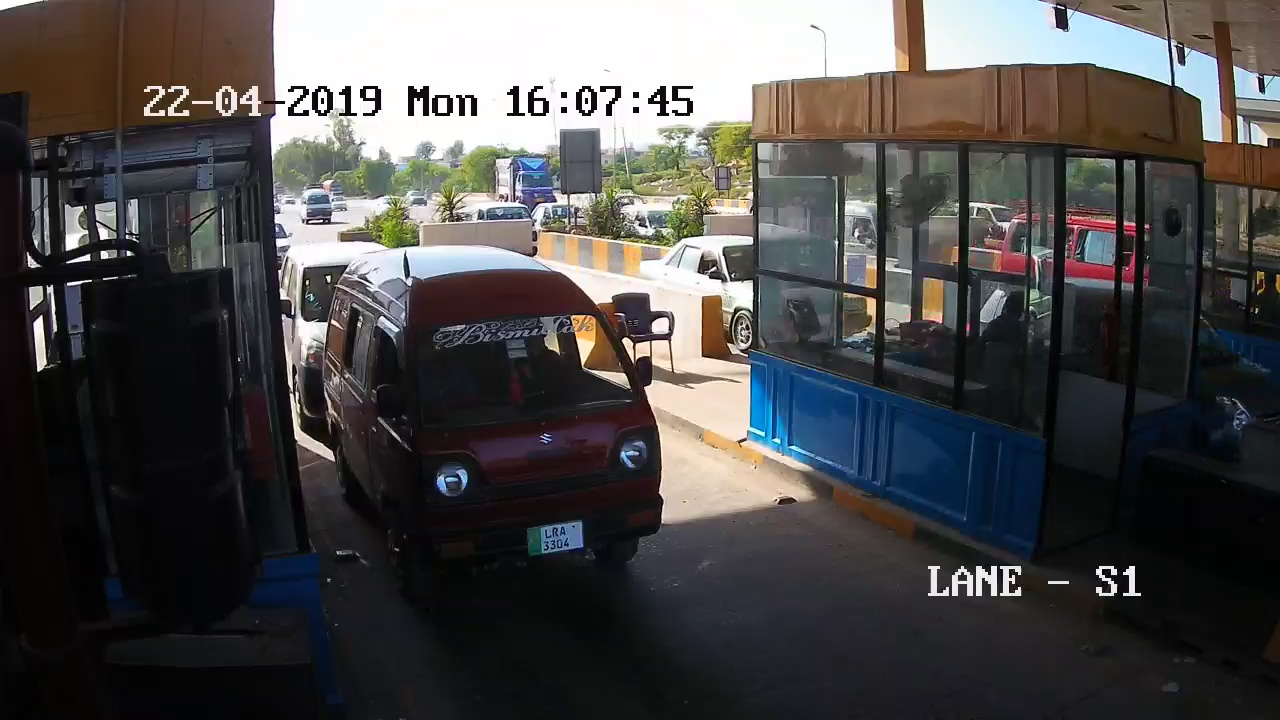Number Plate (Car): (523, 521, 584, 555)
